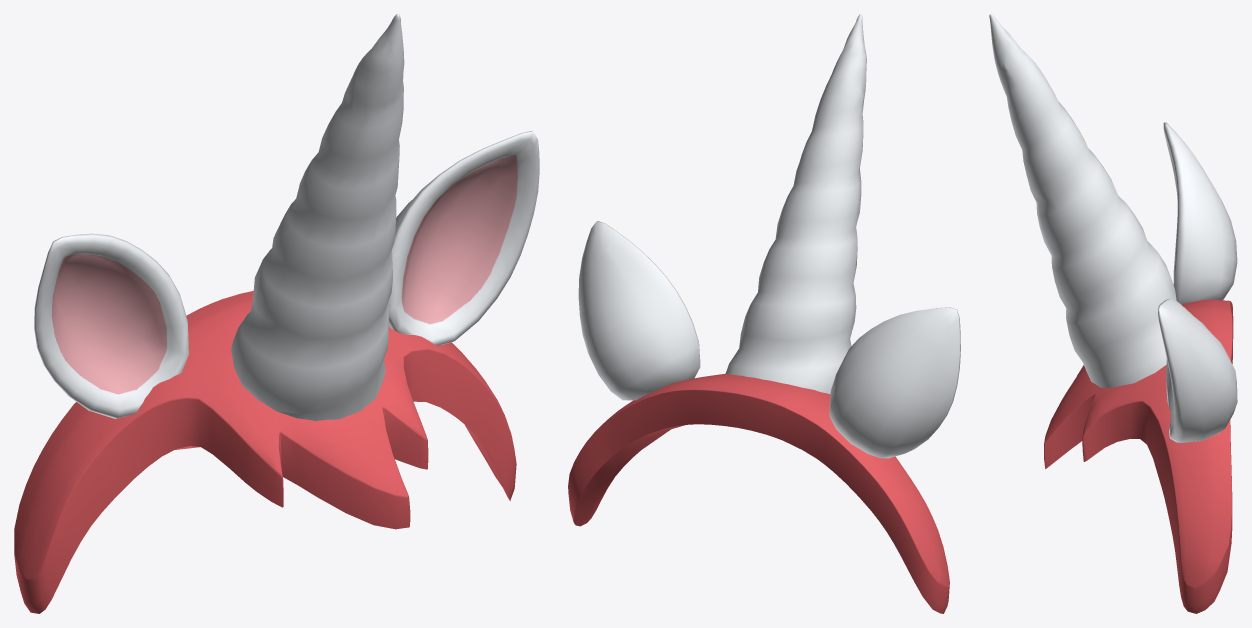
Rendered from unicorn_horn.fbx.
3 renders of one model, left to right at view 1: azimuth 30°, elevation 25°; view 2: azimuth 150°, elevation 25°; view 3: azimuth 270°, elevation 25°, orthographic. The views are drawn at different scales.
Parts seen in each view (by area): view 1: node_id30; view 2: node_id30; view 3: node_id30.
Boxes of the visible parts, x1,y1,x2,y2 form: node_id30: (14,14,539,613); node_id30: (568,14,960,613); node_id30: (989,14,1237,613).
Bounding box in the file's own units: 0.4209 × 0.512 × 0.2271.
1 material, 1 textured.
